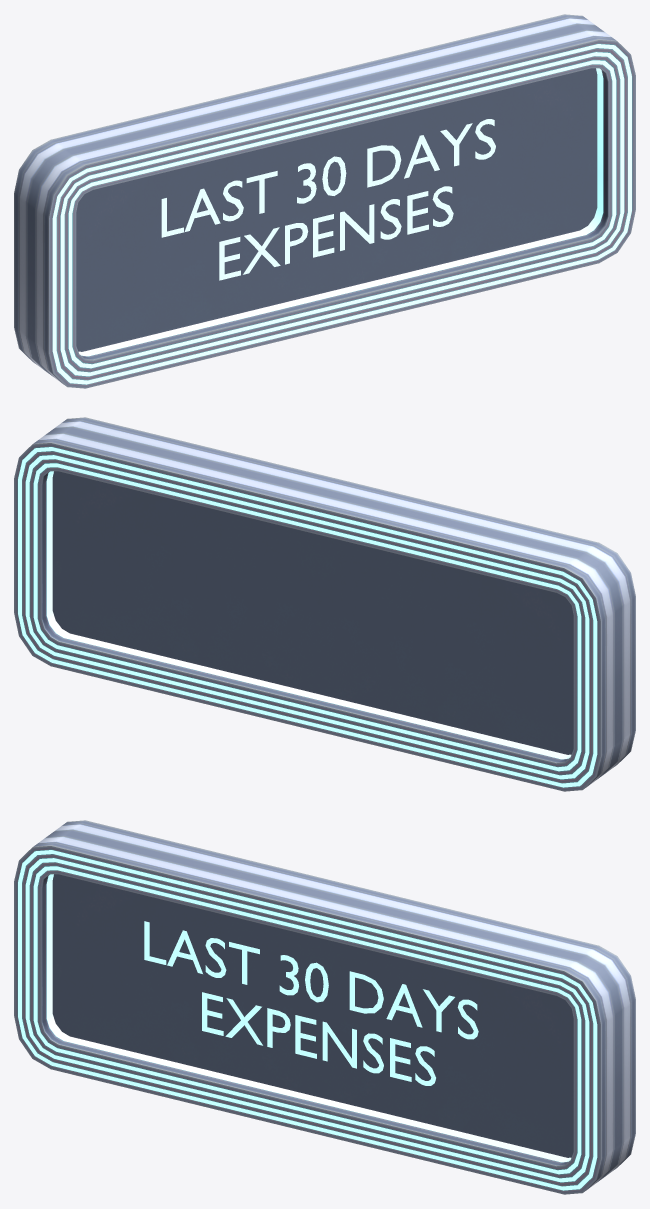
File: obj_expenses.gltf
3 renders of one model, top to bottom at view 1: azimuth 30°, elevation 25°; view 2: azimuth 150°, elevation 25°; view 3: azimuth 330°, elevation 25°, orthographic.
Visible parts, largest first — view 1: obj_expenses; view 2: obj_expenses; view 3: obj_expenses.
Boxes of the visible parts, x1=… form: obj_expenses: x1=14, y1=14, x2=635, y2=388; obj_expenses: x1=14, y1=417, x2=635, y2=791; obj_expenses: x1=14, y1=820, x2=635, y2=1194.
Size of what is drawn, in the model's own units: 4.27 by 1.55 by 0.439.
2 materials, 1 textured.
